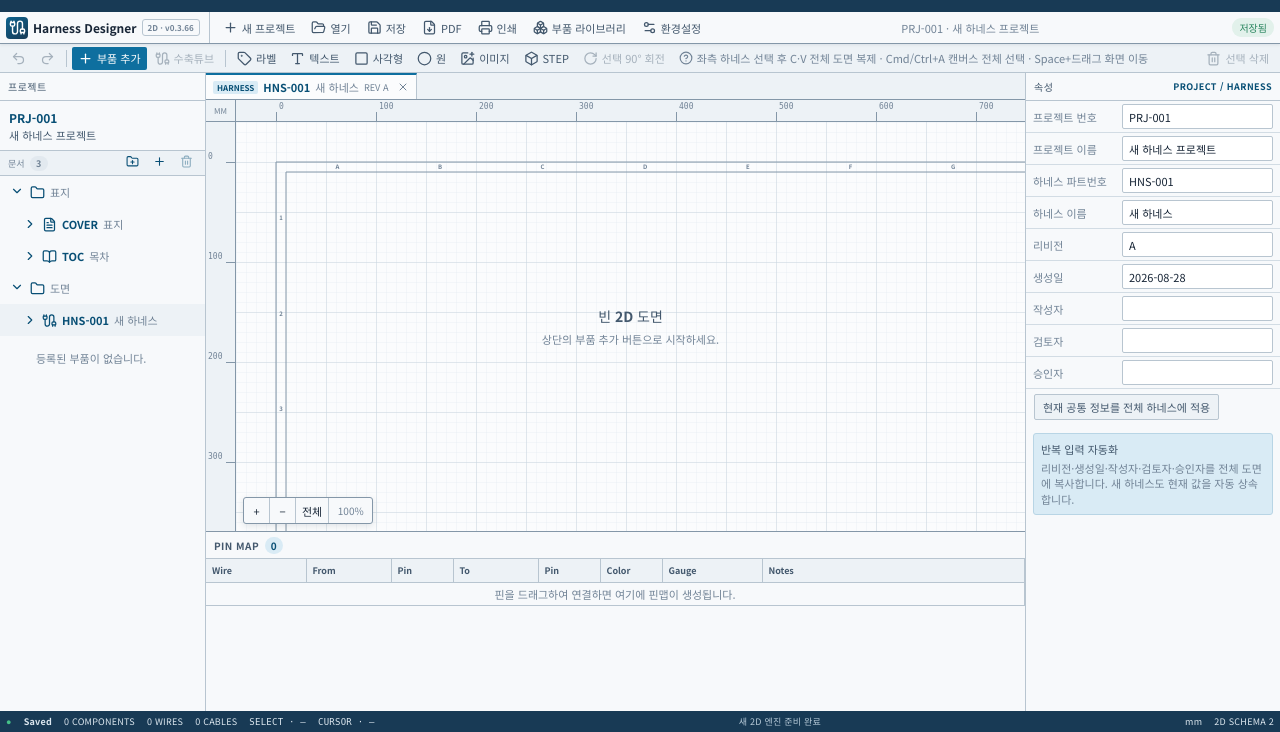
Test case: 새 2D 편집 화면 › 좌측 하네스 행을 드래그해 도면 순서를 변경한다
Click the button named "새 하네스 도면 생성" at (159, 163), box [148,153,170,173]
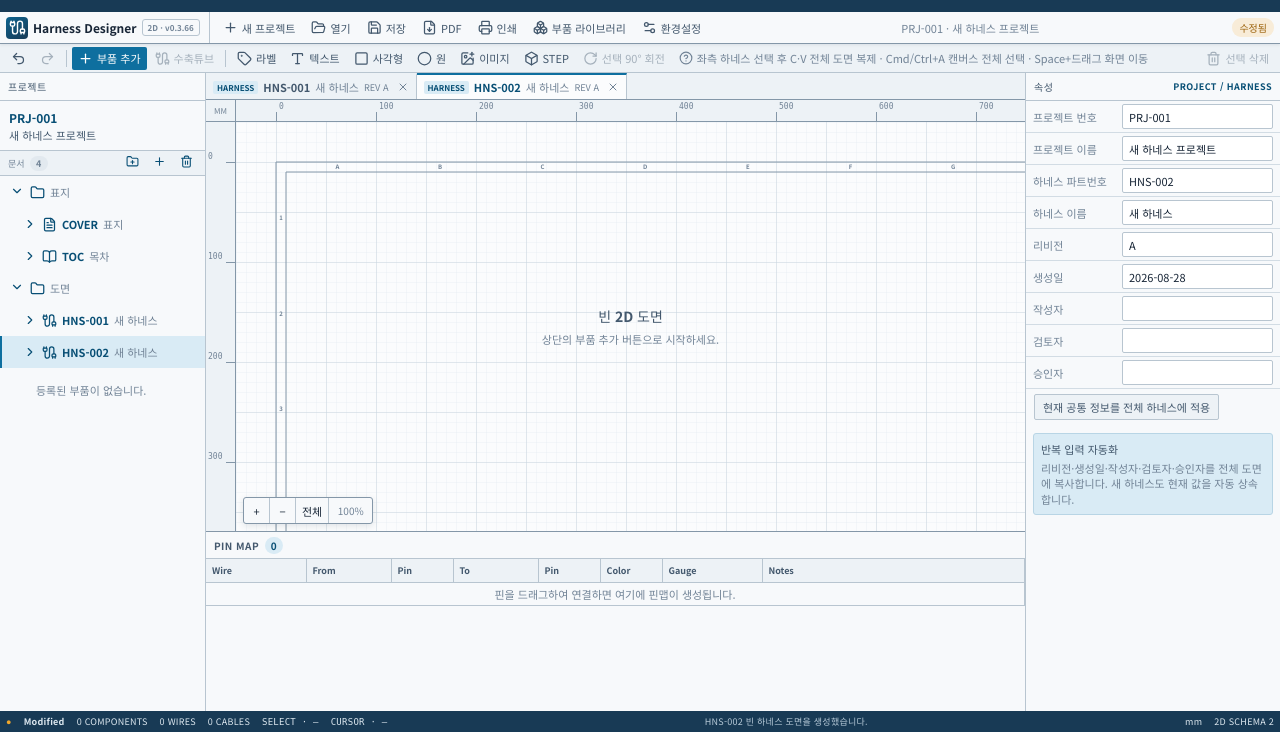
Click the button named "새 하네스 도면 생성" at (159, 163), box [148,153,170,173]
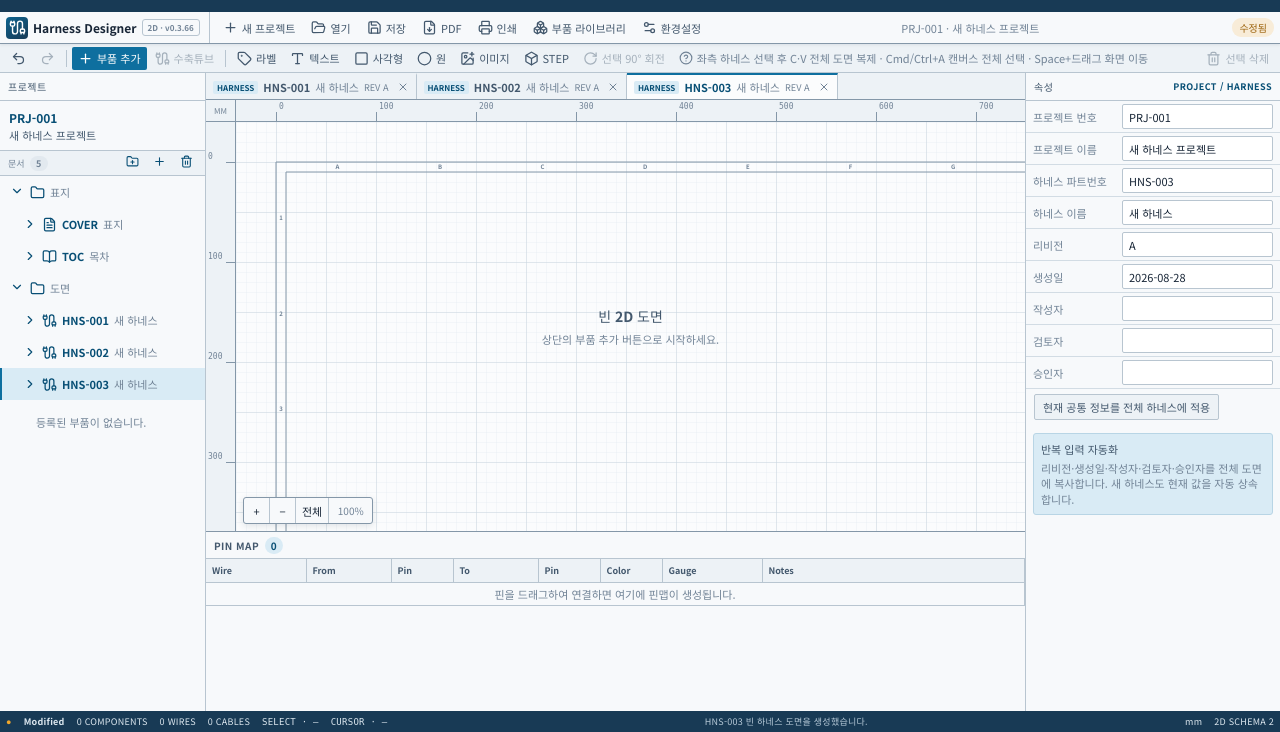
Press the mouse on the button with aria-label "HNS-003 하네스 도면" at (102, 384), box [0,368,205,400]
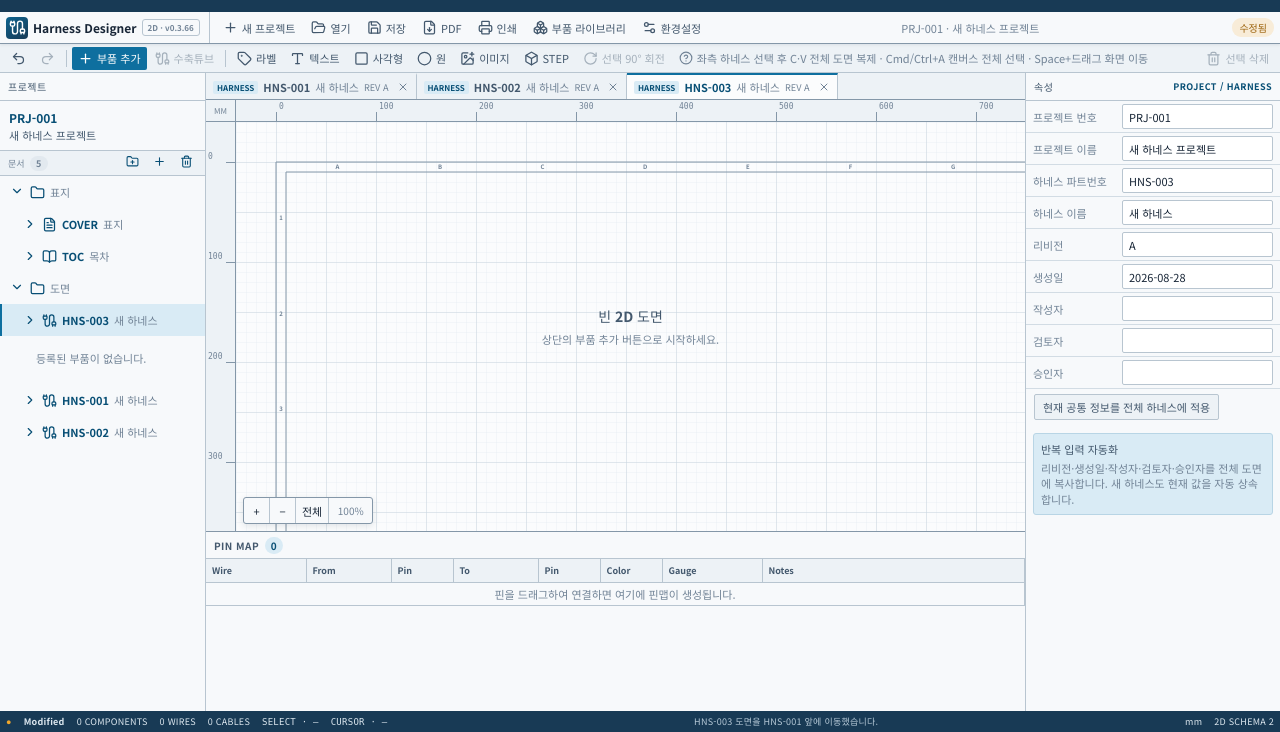
Expected: the text "HNS-003 도면을 HNS-001 앞에 이동했습니다." is shown, [694,715,878,728]
